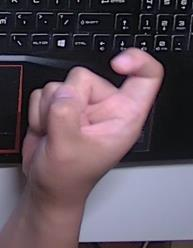anticlockwise: (17, 46, 166, 194)
